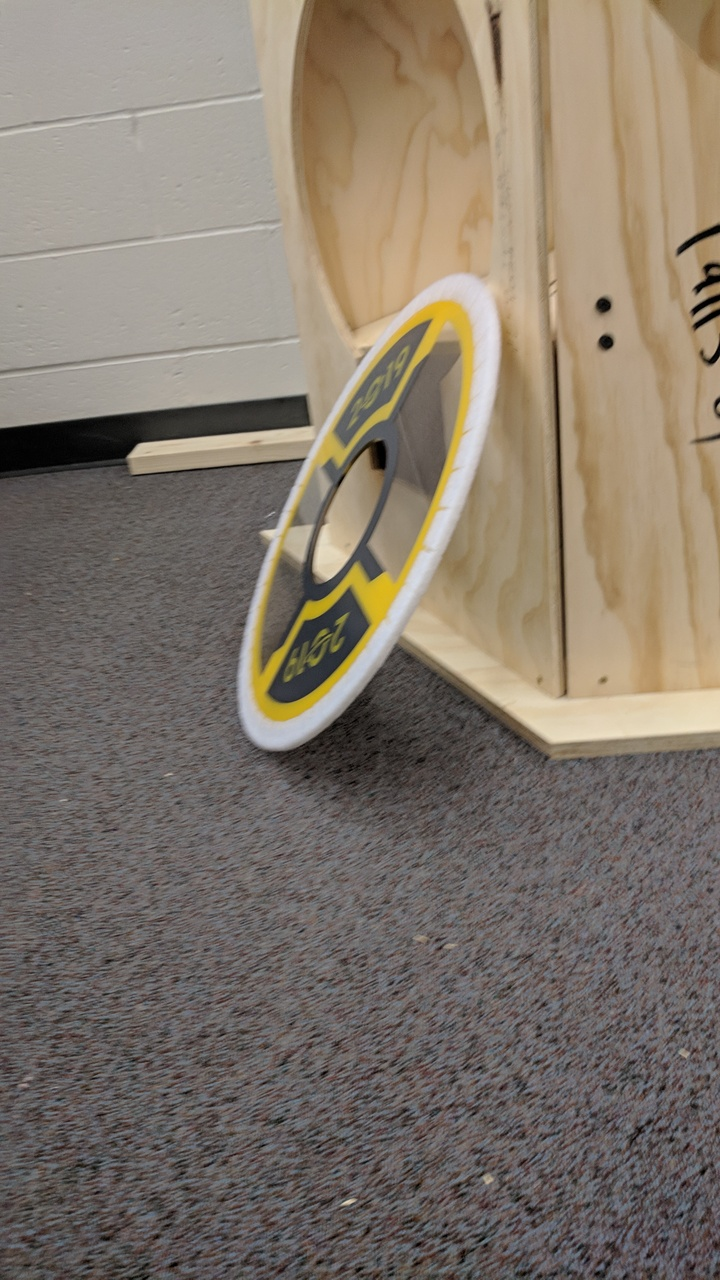hatch_panel: (238, 270, 494, 735)
